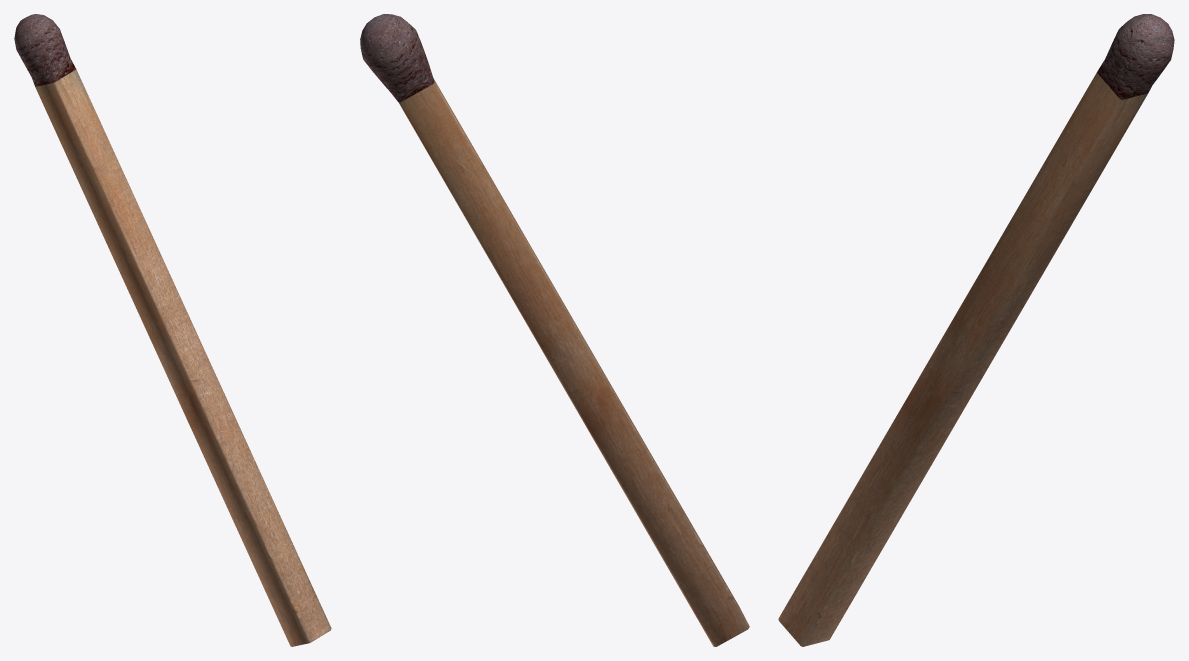
File: cc0_-_match.glb
3 renders of one model, left to right at view 1: azimuth 90°, elevation 25°; view 2: azimuth 150°, elevation 25°; view 3: azimuth 270°, elevation 25°, orthographic. The views are drawn at different scales.
Parts seen in each view (by area): view 1: Match; view 2: Match; view 3: Match.
Boxes of the visible parts, x1,y1,x2,y2 form: Match: (14,14,331,646); Match: (360,14,749,646); Match: (778,14,1174,646).
Bounding box in the file's own units: 0.0142 × 0.0447 × 0.0227.
Materials: 1 (1 with a texture image).
